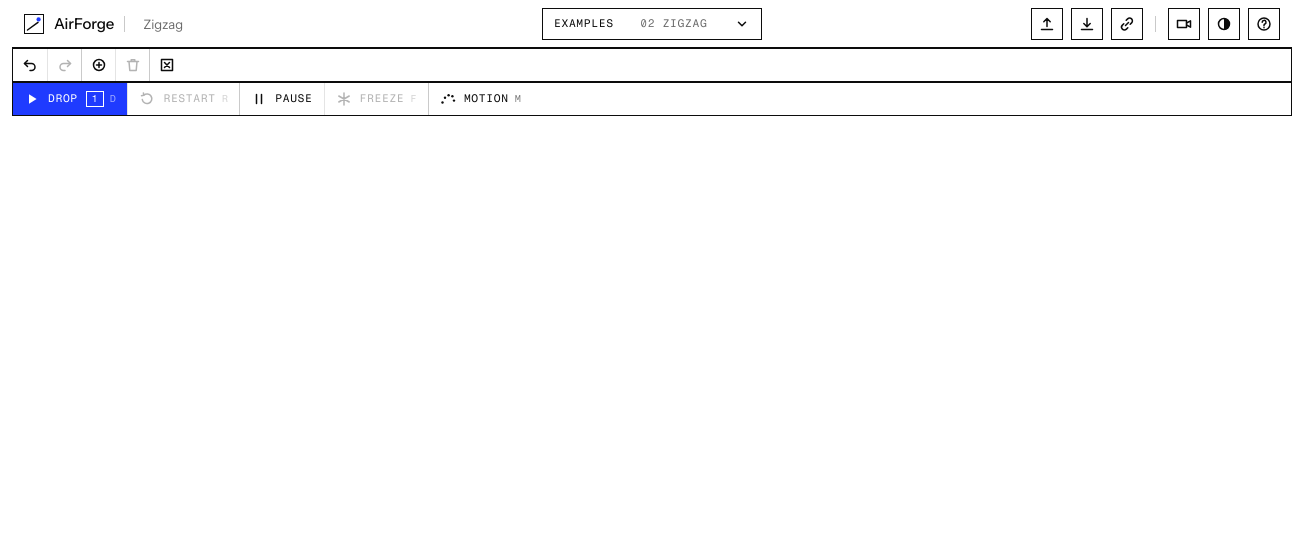
describes each example in the menu and marks the open one
What coordinates should you click on to do the following:
click the button "Examples 02 Zigzag"
I would click on:
 (652, 24)
Its box is [542,8,762,40].
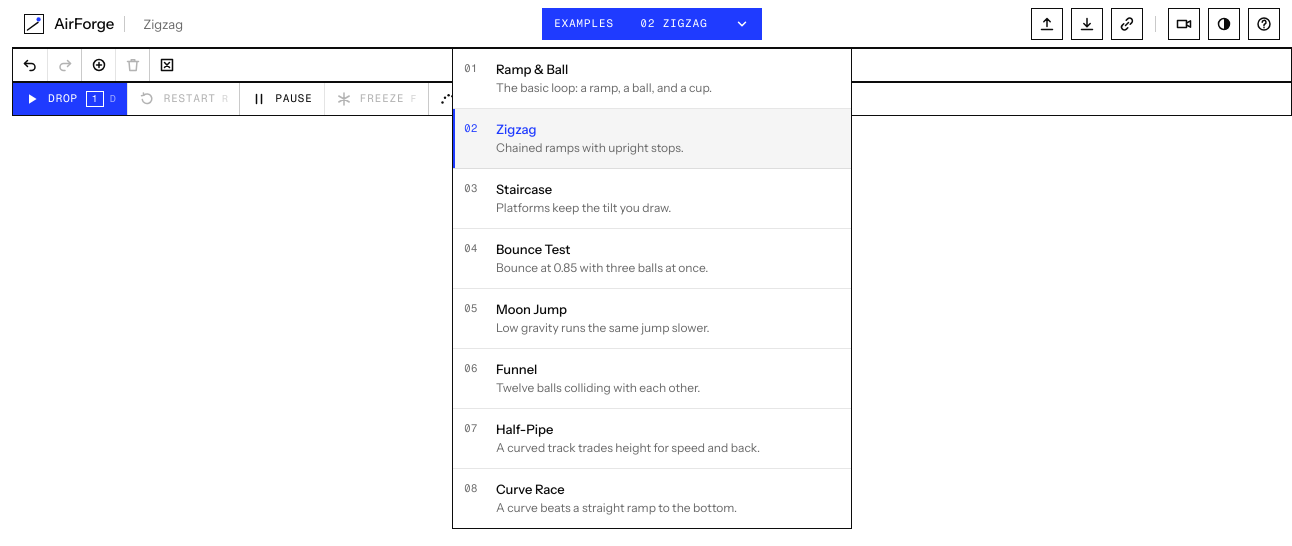
Result: the number of menu items is 8
Result: the menu item "Ramp & Ball" is shown at [453,48,851,108]
